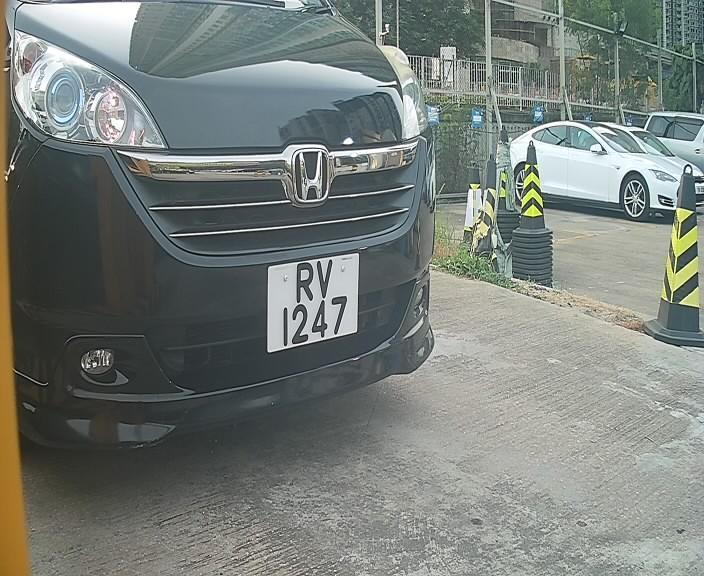License Plate: (255, 245, 368, 361)
